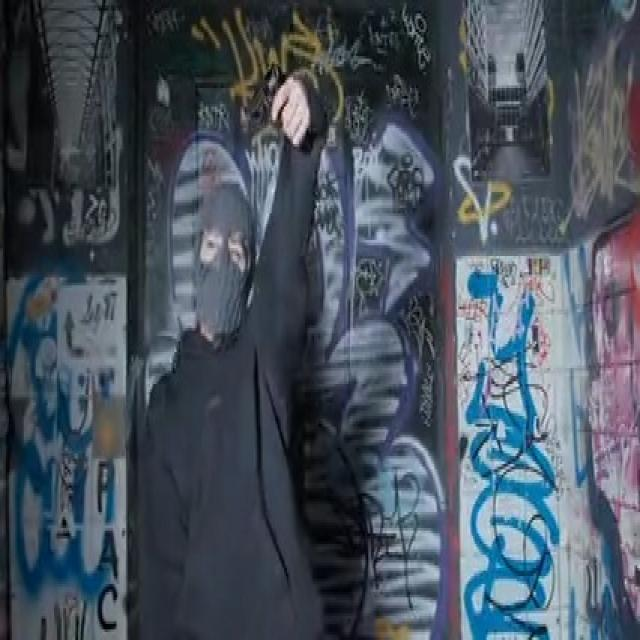Gun_Holder: (241, 61, 342, 161)
Person: (139, 158, 312, 629)
